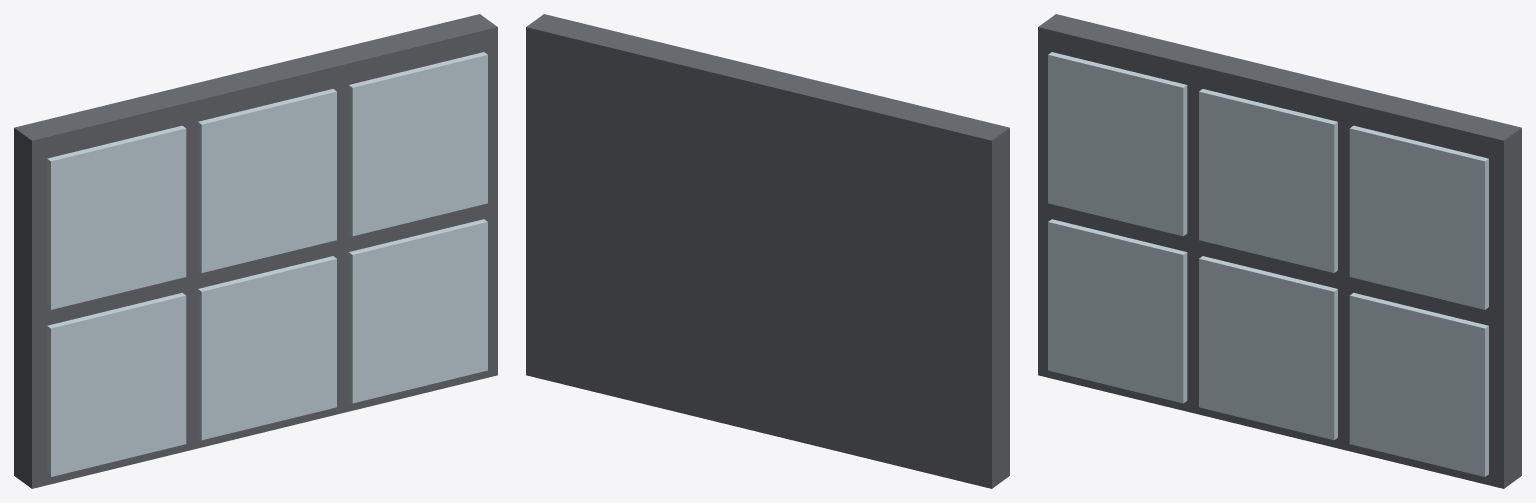
The model's file is bank-vault-heist-kit-monitor-wall-94590357__25109.glb.
3 views of the same model, side by side, from view 1: azimuth 30°, elevation 25°; view 2: azimuth 150°, elevation 25°; view 3: azimuth 330°, elevation 25° (orthographic).
Parts seen in each view (by area): view 1: monitor-wall; view 2: monitor-wall; view 3: monitor-wall.
Part boxes in pixels (x1=…): monitor-wall: x1=14, y1=14, x2=497, y2=488; monitor-wall: x1=526, y1=14, x2=1009, y2=488; monitor-wall: x1=1038, y1=14, x2=1521, y2=488.
Size of the model in its own units: 2.1 by 1.5 by 0.175.
